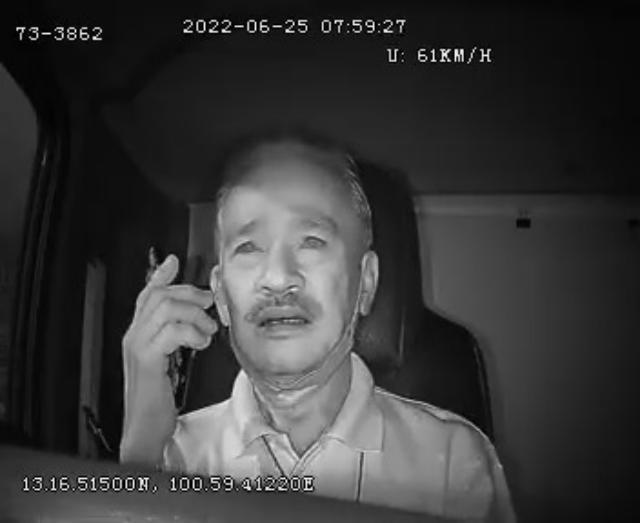PhoneUse: (140, 242, 196, 414)
SafeDriving: (227, 226, 270, 266), (291, 220, 336, 258)
